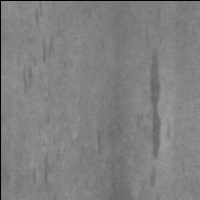inclusion: (144, 45, 173, 167), (20, 36, 55, 97), (30, 152, 55, 189), (92, 124, 109, 163), (27, 1, 51, 26)
